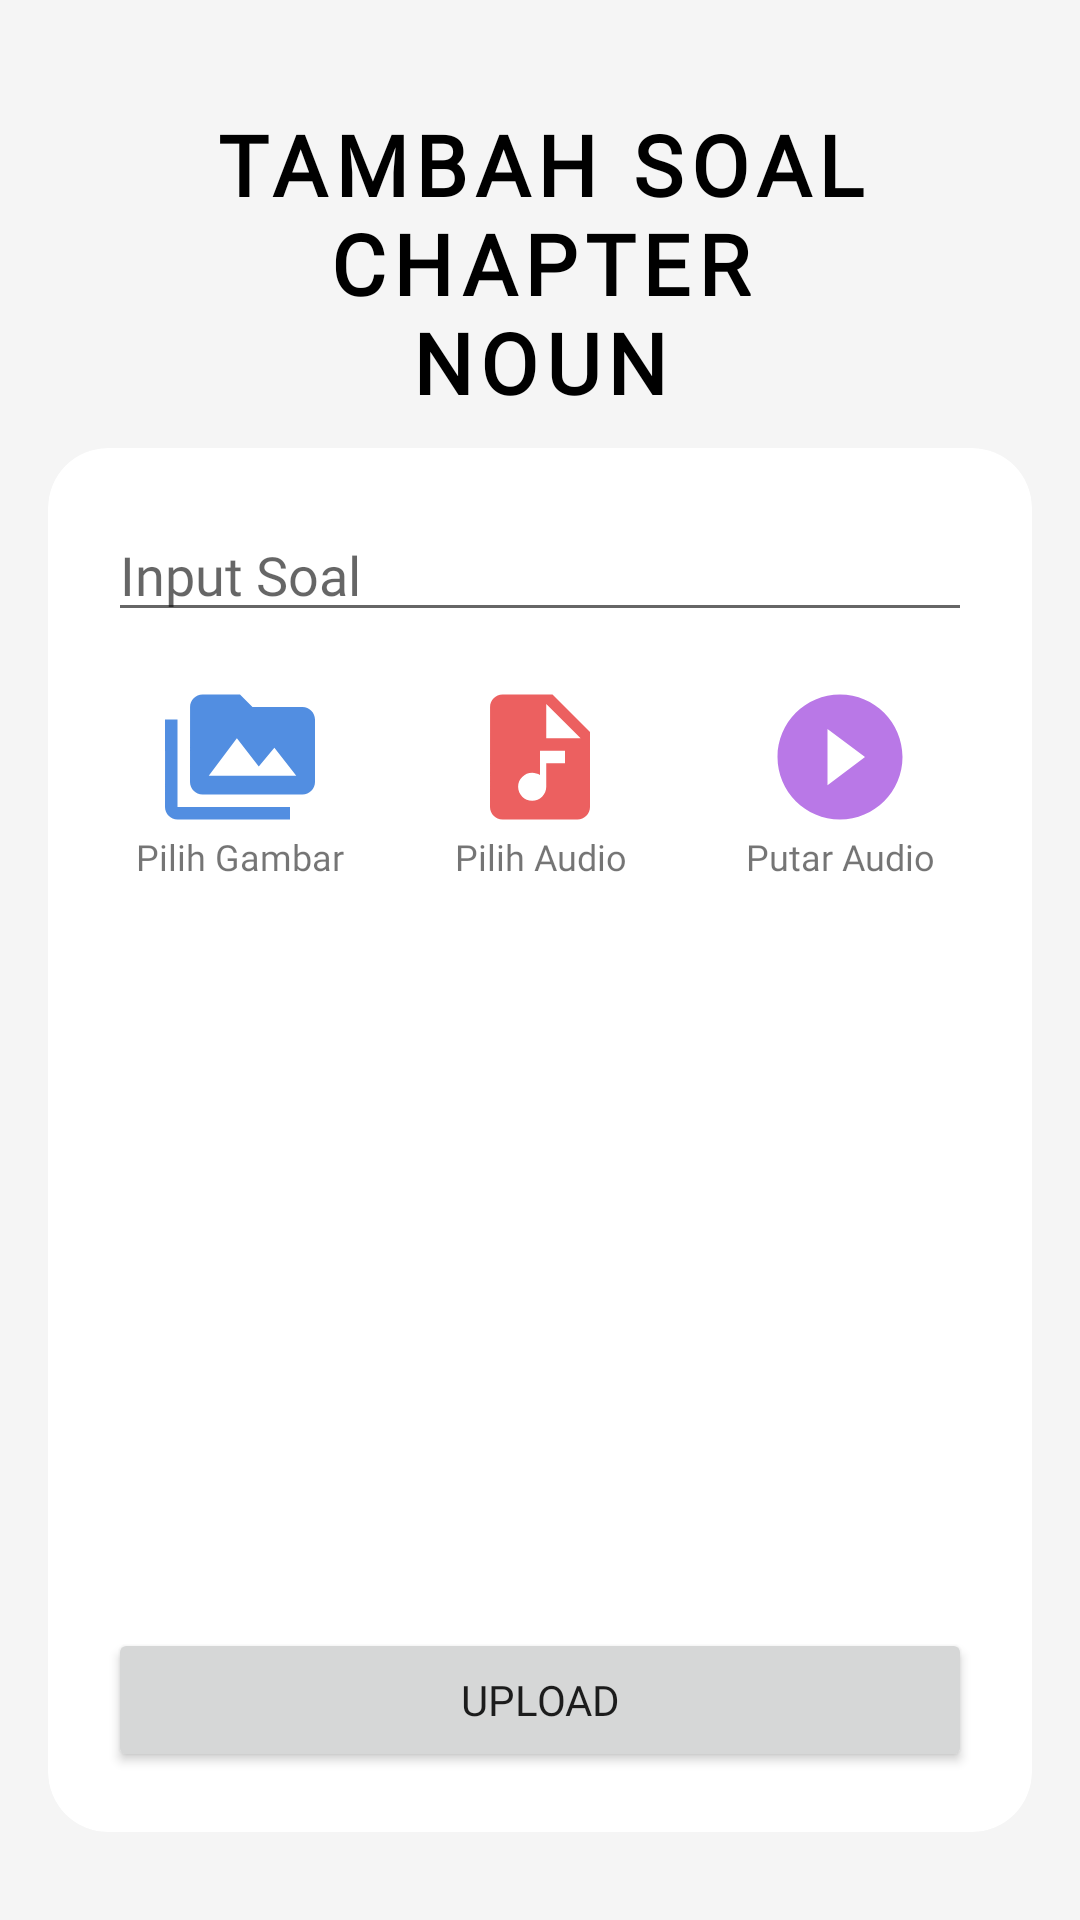

Screen size 1080px×1920px. Icon name, then its center in pixels as (x,y):
audio file: (540,757)
play circle: (840,757)
